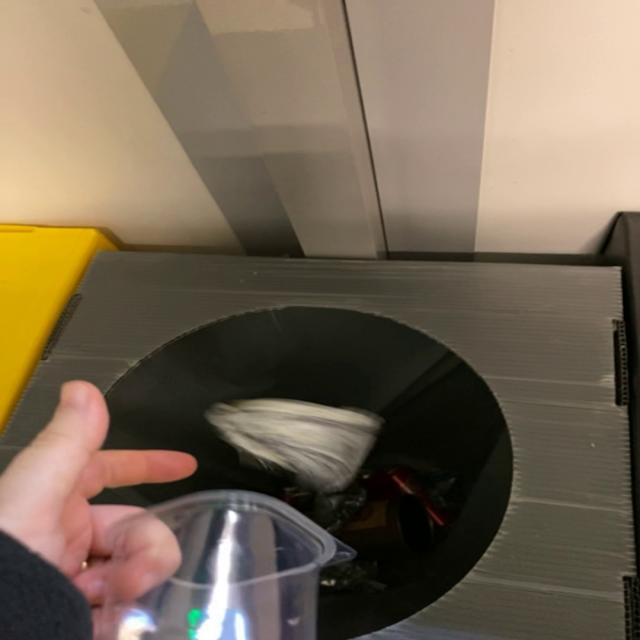bin: (1, 252, 636, 640), (1, 252, 635, 640)
metal: (203, 399, 384, 494)
